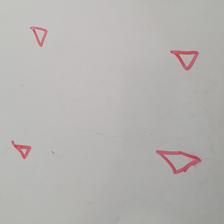simple-chemical-triangle: (154, 147, 201, 175), (169, 48, 199, 71), (10, 139, 33, 160), (30, 26, 49, 47)
